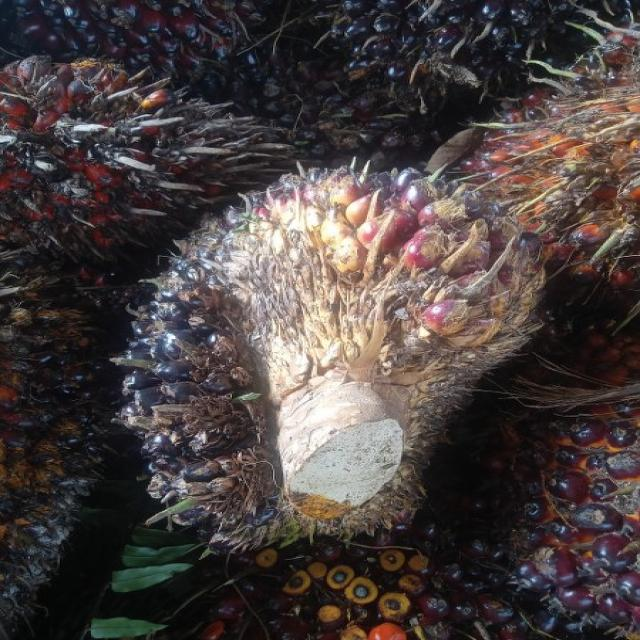fraksi 00: (105, 130, 544, 566)
